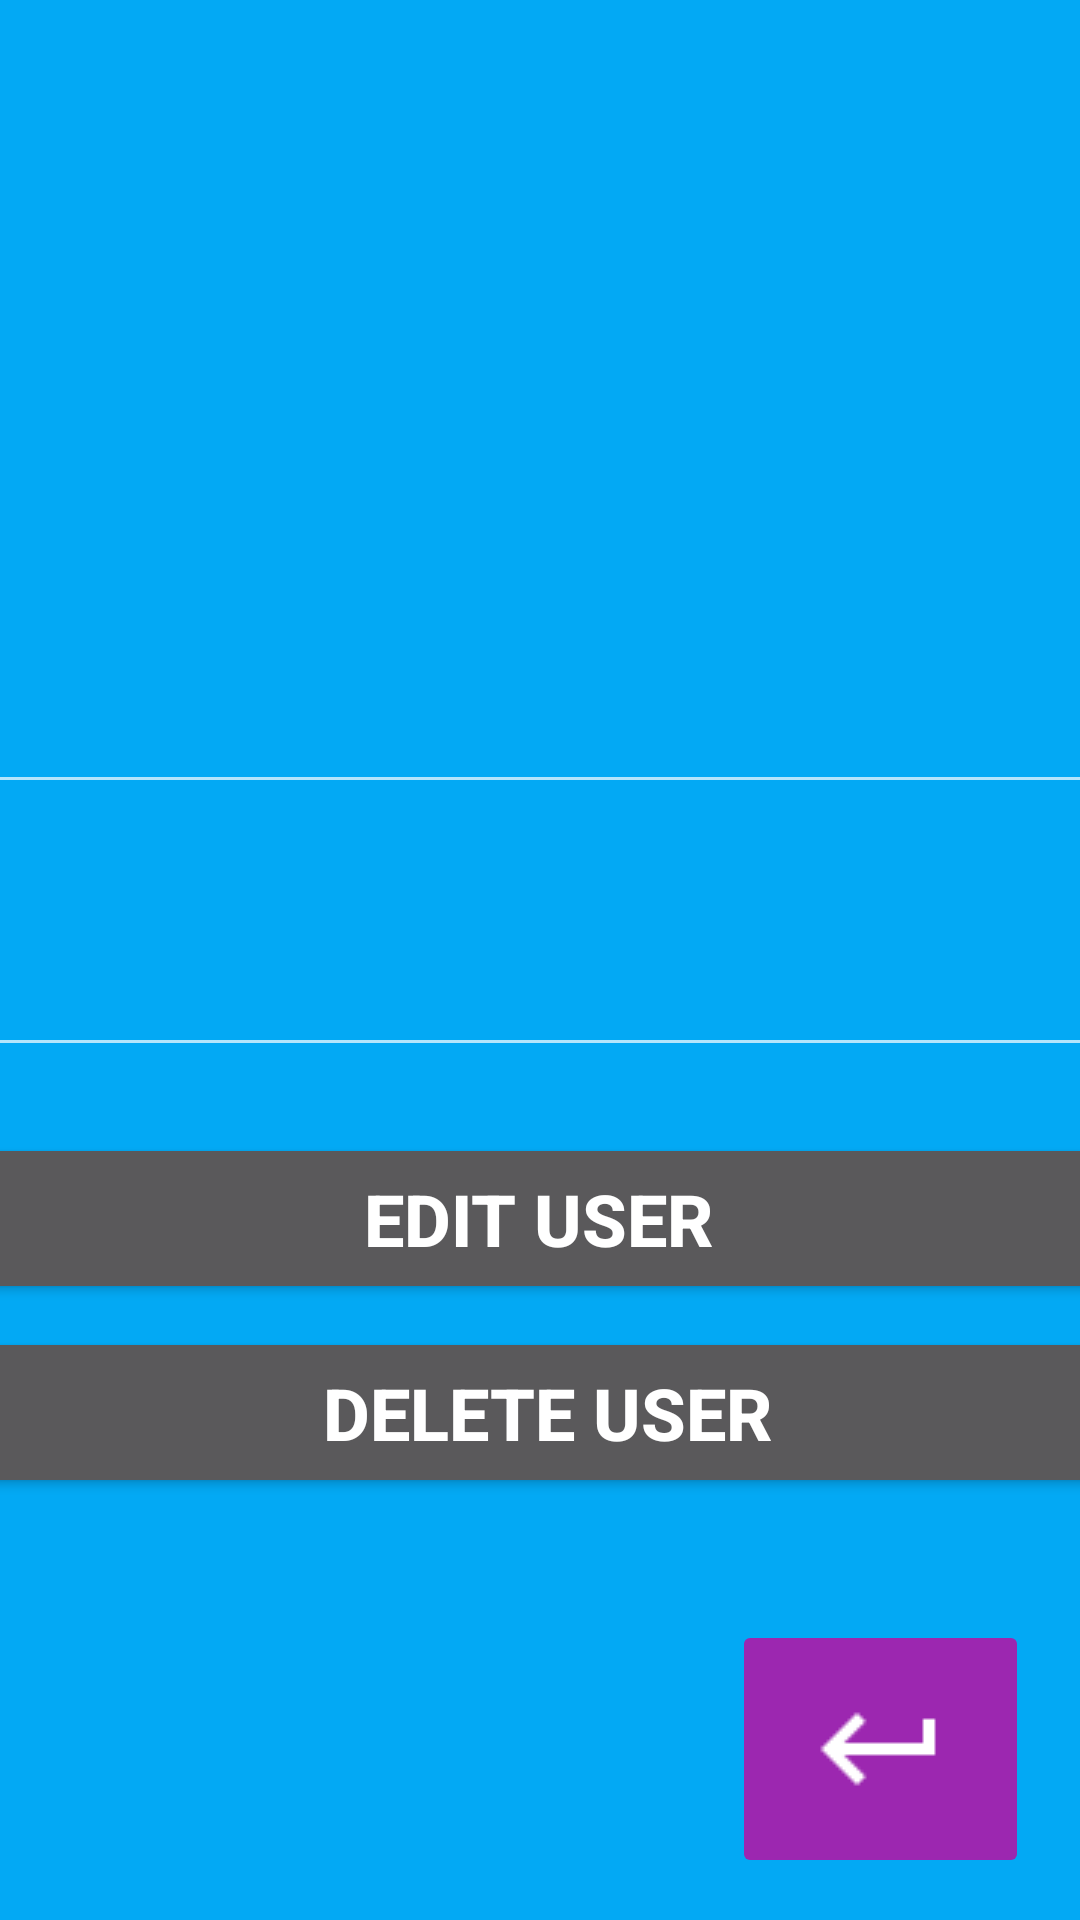

Locate icon controls on the screen. Image size 1080×1920, boxes as (x1, y1, x2, y2).
keyboard return: (744, 1638, 1017, 1860)
